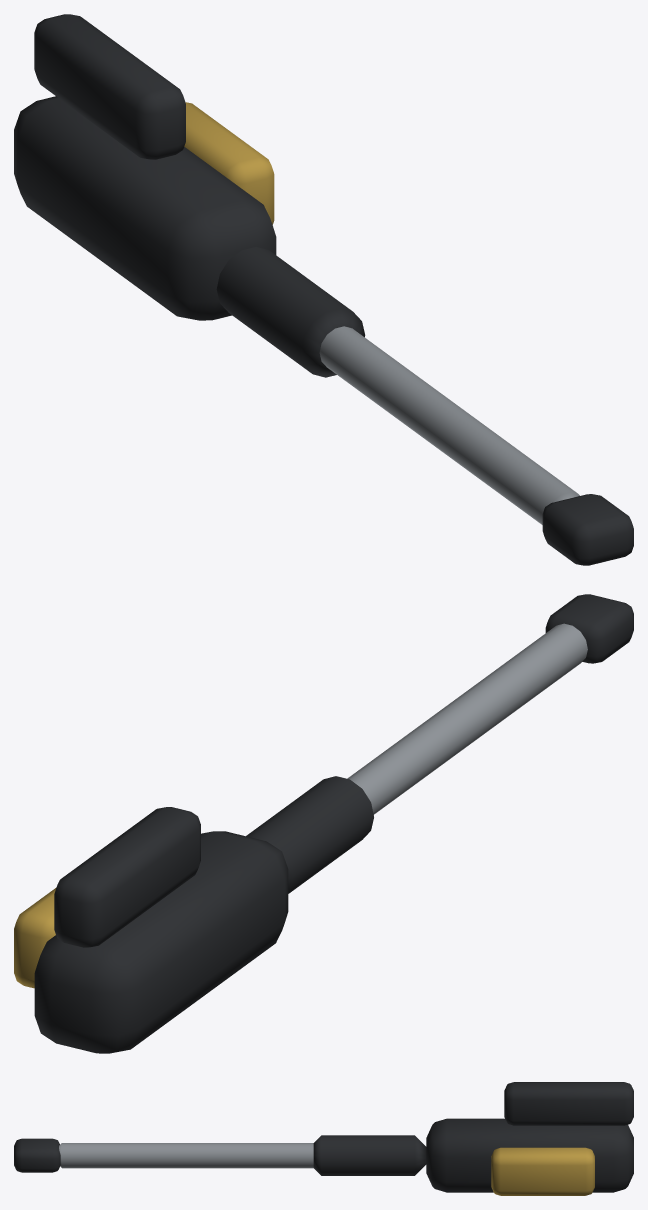
File: Gun_Autocannon.fbx
The picture shows the model from 3 angles, top to bottom: view 1: azimuth 30°, elevation 25°; view 2: azimuth 150°, elevation 25°; view 3: azimuth 270°, elevation 25°; orthographic projection. The views are drawn at different scales.
Parts seen in each view (by area): view 1: Gun_Autocannon; view 2: Gun_Autocannon; view 3: Gun_Autocannon.
Boxes of the visible parts, box(x1,y1,x2,y2) form: Gun_Autocannon: box(14, 14, 633, 565); Gun_Autocannon: box(14, 594, 633, 1053); Gun_Autocannon: box(14, 1082, 633, 1195).
Size of the model in its own units: 0.38 by 0.43 by 2.39.
